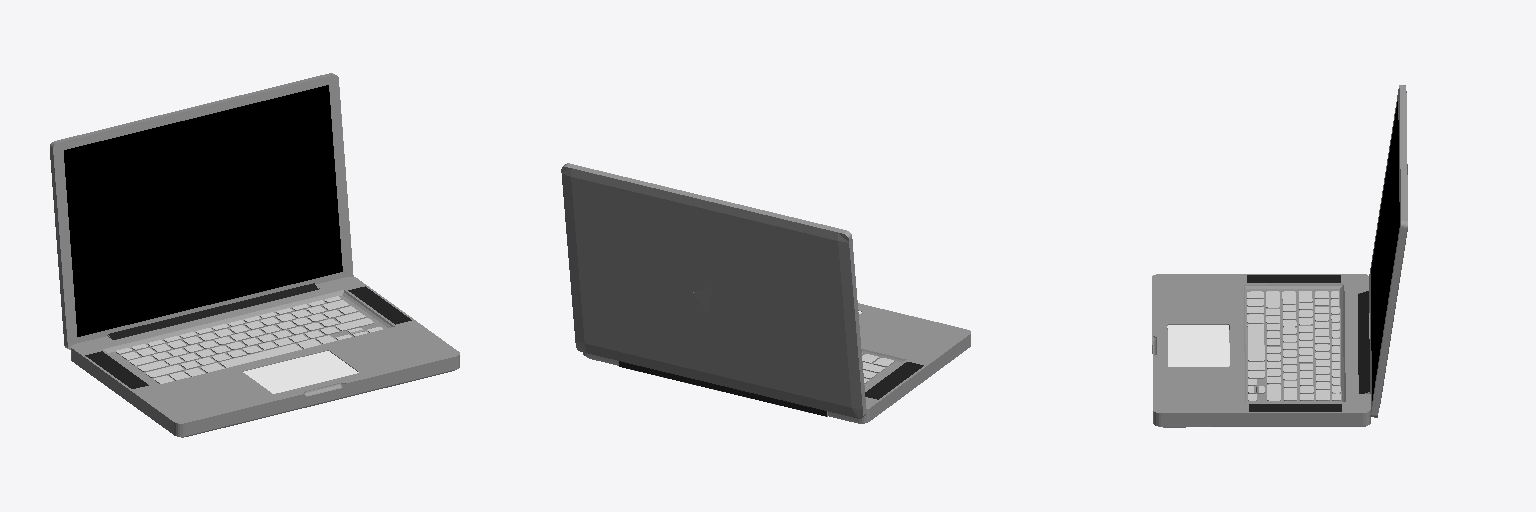
The model's file is Lap.obj.
3 renders of one model, left to right at view 1: azimuth 30°, elevation 25°; view 2: azimuth 150°, elevation 25°; view 3: azimuth 270°, elevation 25°, orthographic.
Parts seen in each view (by area): view 1: Laptop:Mesh; view 2: Laptop:Mesh; view 3: Laptop:Mesh.
Boxes of the visible parts, <box> form: Laptop:Mesh: <box>50,73,459,437</box>; Laptop:Mesh: <box>561,163,970,423</box>; Laptop:Mesh: <box>1152,85,1407,427</box>.
Size of the model in its own units: 0.3676 by 0.2524 by 0.2844.